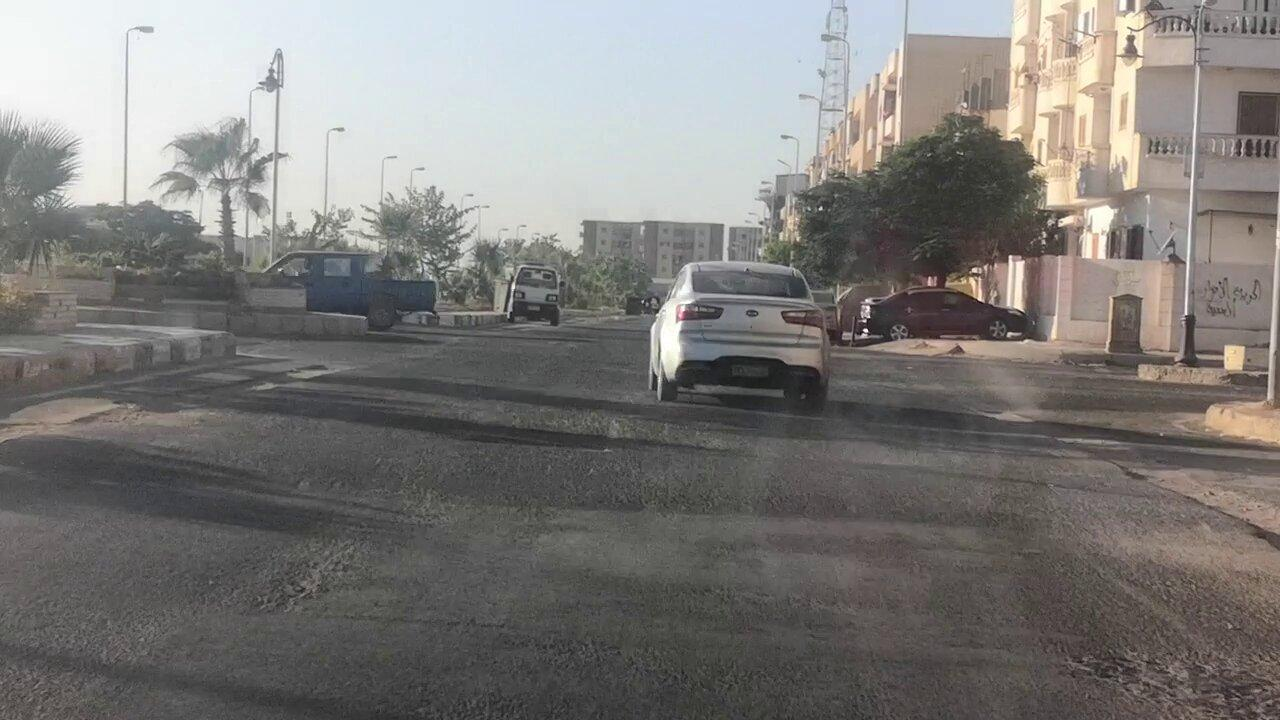Bump: (123, 408, 1212, 517)
